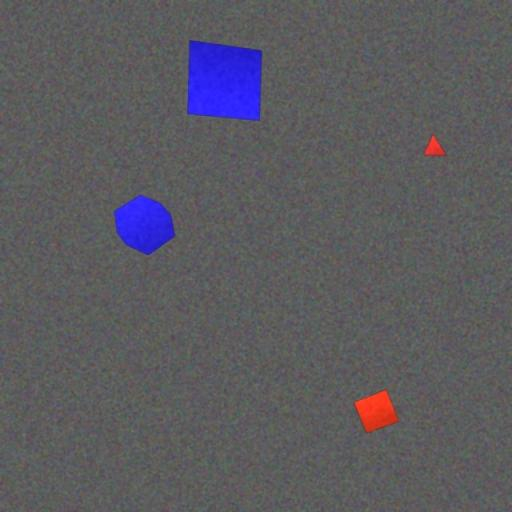BLUE_SQUARE: (187, 39, 263, 121)
RED_SQUARE: (353, 389, 400, 434)
